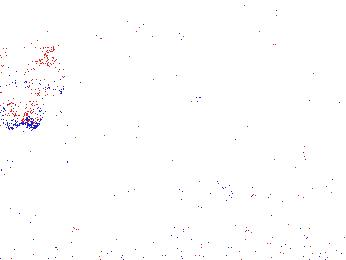flame jellyfish: (21, 58, 69, 131), (269, 161, 324, 212), (201, 163, 252, 215)
